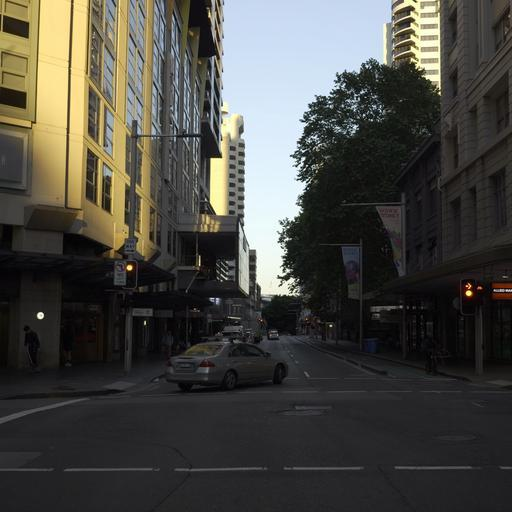Street light: (121, 128, 203, 374), (339, 195, 408, 358), (123, 259, 138, 289)
